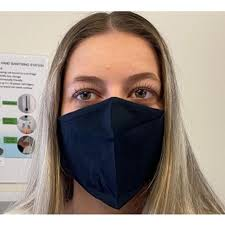FaceMask: (57, 97, 165, 210)
